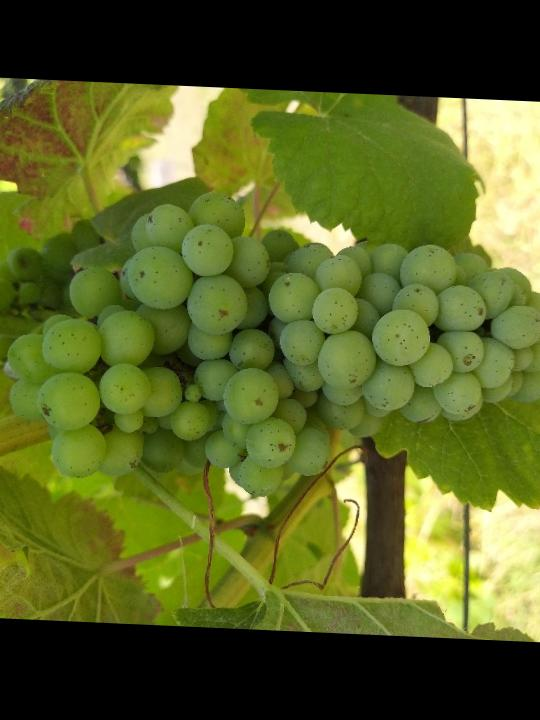grape: (0, 181, 540, 512)
